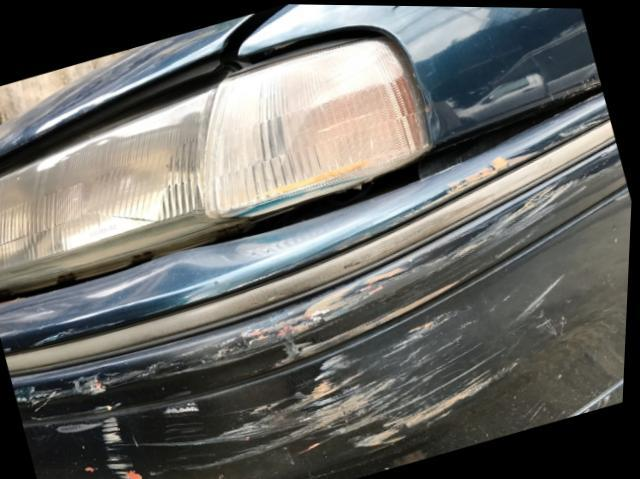scratch: (19, 102, 629, 479)
